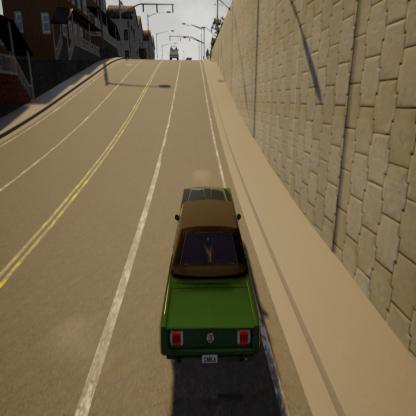Cars: (156, 164, 268, 396), (161, 40, 183, 65)
